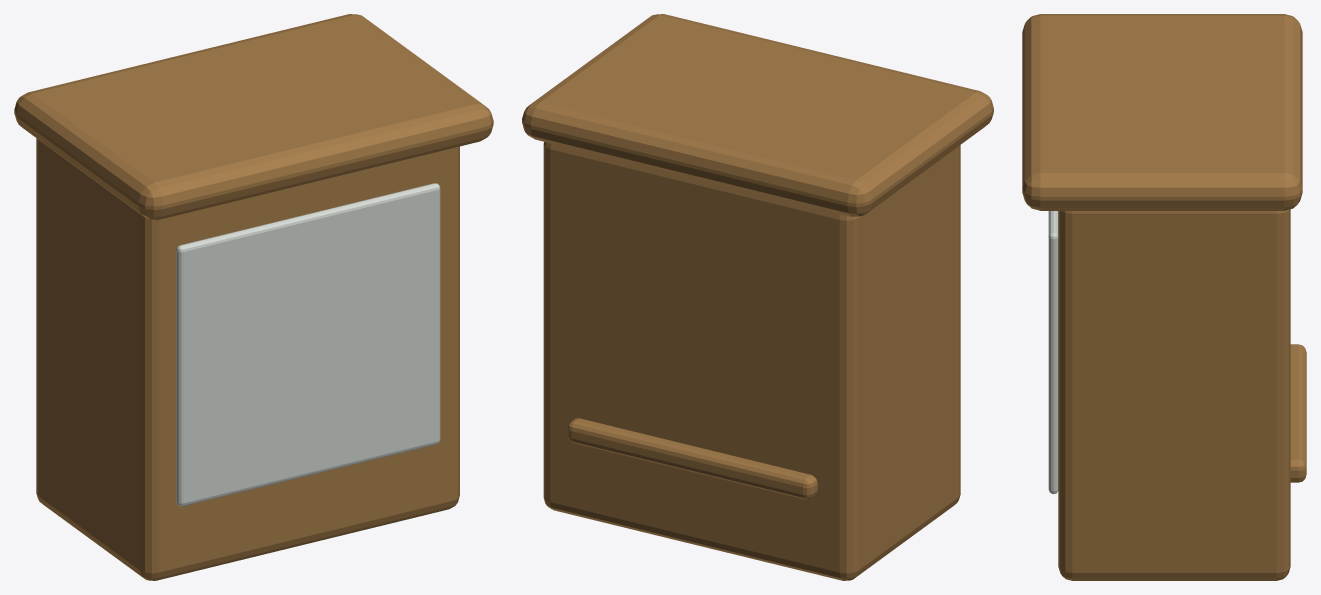
The model's file is SM_TeacherPodium_Realistic.obj.
3 views of the same model, side by side, from view 1: azimuth 30°, elevation 25°; view 2: azimuth 150°, elevation 25°; view 3: azimuth 270°, elevation 25° (orthographic).
Parts seen in each view (by area): view 1: Body.001, FrontInset, Top.001; view 2: Body.001, Top.001, LowerShelf; view 3: Body.001, Top.001, FrontInset, LowerShelf.
Part boxes in pixels (bbox=[...]): Body.001: bbox=[36, 138, 459, 580]; FrontInset: bbox=[176, 183, 440, 506]; Top.001: bbox=[14, 14, 493, 219]; Body.001: bbox=[543, 142, 960, 580]; Top.001: bbox=[522, 14, 993, 216]; LowerShelf: bbox=[567, 418, 817, 499]; Body.001: bbox=[1058, 209, 1290, 580]; Top.001: bbox=[1022, 14, 1302, 210]; FrontInset: bbox=[1048, 211, 1058, 494]; LowerShelf: bbox=[1290, 344, 1306, 482].
Size of the model in its own units: 1.02 by 1.14 by 0.71.
